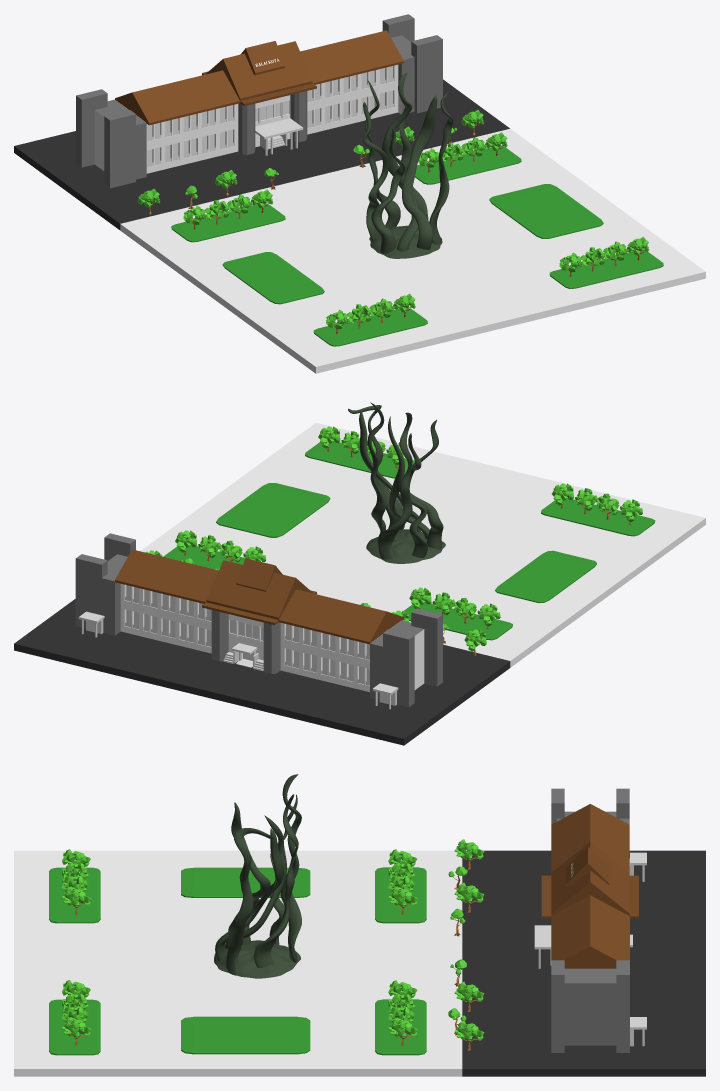
Rendered from Balai Kota.gltf.
3 views of the same model, one above another, from view 1: azimuth 30°, elevation 25°; view 2: azimuth 150°, elevation 25°; view 3: azimuth 270°, elevation 25° (orthographic). The views are drawn at different scales.
Visible parts, largest first — view 1: Cube.054, Cube, Cube.050, Rumput_Laut, Cube.060, Cube.059, Cube.064, Cube.062, Cube.061, Cube.063, Cube.057, Plane.001 (+4 smaller); view 2: Cube.054, Cube, Cube.050, Rumput_Laut, Cube.060, Cube.059, Cube.062, Cube.061, Cube.064, Cube.057, Cube.063, Plane.013 (+3 smaller); view 3: Cube.054, Cube.050, Rumput_Laut, Cube, Cube.060, Cube.059, Cube.061, Cube.063, Cube.064, Cube.062, Cube.057.
Part boxes in pixels (x1=…): Cube.054: x1=14, y1=79, x2=705, y2=373; Cube: x1=76, y1=14, x2=442, y2=188; Cube.050: x1=115, y1=30, x2=403, y2=125; Rumput_Laut: x1=363, y1=72, x2=453, y2=258; Cube.060: x1=489, y1=184, x2=603, y2=238; Cube.059: x1=222, y1=252, x2=324, y2=304; Cube.064: x1=171, y1=203, x2=285, y2=242; Cube.062: x1=313, y1=308, x2=427, y2=346; Cube.061: x1=549, y1=250, x2=663, y2=288; Cube.063: x1=415, y1=146, x2=521, y2=184; Cube.057: x1=240, y1=41, x2=284, y2=75; Plane.001: x1=147, y1=129, x2=232, y2=163; Cube.054: x1=14, y1=423, x2=705, y2=745; Cube: x1=75, y1=533, x2=442, y2=707; Cube.050: x1=115, y1=549, x2=403, y2=644; Rumput_Laut: x1=348, y1=402, x2=445, y2=563; Cube.060: x1=216, y1=483, x2=330, y2=537; Cube.059: x1=495, y1=550, x2=596, y2=603; Cube.062: x1=541, y1=498, x2=655, y2=536; Cube.061: x1=305, y1=441, x2=414, y2=478; Cube.064: x1=401, y1=602, x2=512, y2=640; Cube.057: x1=236, y1=558, x2=282, y2=591; Cube.063: x1=163, y1=545, x2=276, y2=569; Plane.013: x1=126, y1=609, x2=211, y2=643; Cube.054: x1=14, y1=850, x2=705, y2=1076; Cube.050: x1=541, y1=804, x2=638, y2=968; Rumput_Laut: x1=214, y1=774, x2=301, y2=978; Cube: x1=551, y1=788, x2=629, y2=1052; Cube.060: x1=181, y1=1016, x2=310, y2=1054; Cube.059: x1=181, y1=867, x2=310, y2=897; Cube.061: x1=49, y1=999, x2=100, y2=1055; Cube.063: x1=375, y1=999, x2=426, y2=1055; Cube.064: x1=375, y1=867, x2=426, y2=923; Cube.062: x1=49, y1=867, x2=100, y2=923; Cube.057: x1=566, y1=846, x2=609, y2=886.
Size of what is drawn, in the model's own units: 60 by 23.59 by 80.4.
